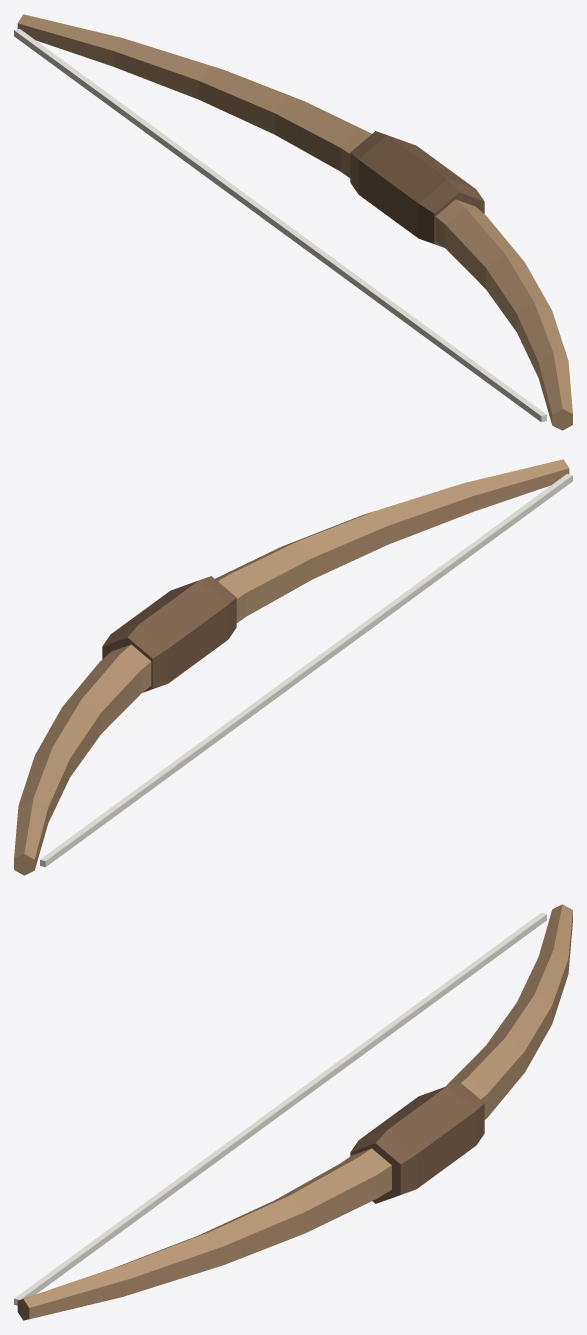
The model's file is shortbow.glb.
3 views of the same model, one above another, from view 1: azimuth 30°, elevation 25°; view 2: azimuth 150°, elevation 25°; view 3: azimuth 330°, elevation 25° (orthographic).
Parts seen in each view (by area): view 1: shortbow; view 2: shortbow; view 3: shortbow.
Part boxes in pixels (x1,y1,x2,y2): shortbow: (14, 14, 572, 430); shortbow: (14, 459, 572, 875); shortbow: (14, 904, 572, 1320).
Size of the model in its own units: 0.1627 by 0.0644 by 0.9075.
